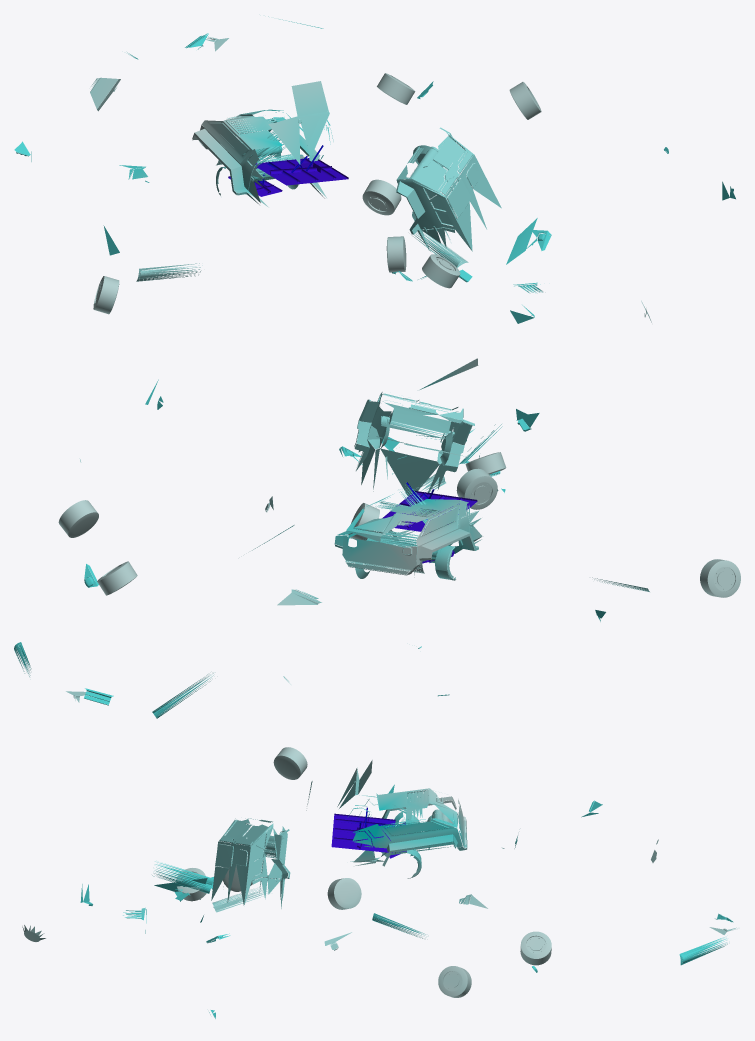
The model's file is ambulance_wreck.glb.
The picture shows the model from 3 angles, top to bottom: view 1: azimuth 30°, elevation 25°; view 2: azimuth 150°, elevation 25°; view 3: azimuth 270°, elevation 25°; orthographic projection. The views are drawn at different scales.
Parts seen in each view (by area): view 1: Ambulance_cab, Ambulance, Ambulance_plate, debris (×3), frame, wrecked_wheel_r1, wrecked_wheel_l1, wrecked_wheel_r0, wrecked_wheel_r2, wrecked_wheel_l2, wrecked_wheel_l0; view 2: Ambulance, Ambulance_cab, wrecked_wheel_r0, wrecked_wheel_r2, wrecked_wheel_l2, wrecked_wheel_l0, frame; view 3: Ambulance, Ambulance_cab, debris (×3), frame, wrecked_wheel_l0, wrecked_wheel_r1, wrecked_wheel_l2, wrecked_wheel_r0, Ambulance_plate.
Part boxes in pixels (x1,y1,x2,y2): Ambulance_cab: (396,127,501,251); Ambulance: (192,109,326,207); Ambulance_plate: (268,81,333,164); debris (×3): (90,77,468,281); frame: (255,158,348,185); wrecked_wheel_r1: (362,179,401,215); wrecked_wheel_l1: (422,254,460,288); wrecked_wheel_r0: (93,276,119,314); wrecked_wheel_r2: (386,236,406,272); wrecked_wheel_l2: (509,82,541,119); wrecked_wheel_l0: (377,73,415,104); Ambulance: (334,494,482,580); Ambulance_cab: (354,392,474,495); wrecked_wheel_r0: (700,559,740,597); wrecked_wheel_r2: (456,468,497,509); wrecked_wheel_l2: (58,500,98,537); wrecked_wheel_l0: (97,561,137,595); frame: (382,491,477,531); Ambulance: (350,788,467,878); Ambulance_cab: (211,818,290,908); debris (×3): (152,861,727,965); frame: (331,813,395,852); wrecked_wheel_l0: (520,931,551,965); wrecked_wheel_r1: (327,878,361,909); wrecked_wheel_l2: (438,966,471,997); wrecked_wheel_r0: (273,747,307,779); Ambulance_plate: (337,760,377,819).
Size of the model in its own units: 25.5 by 5.46 by 30.48.
